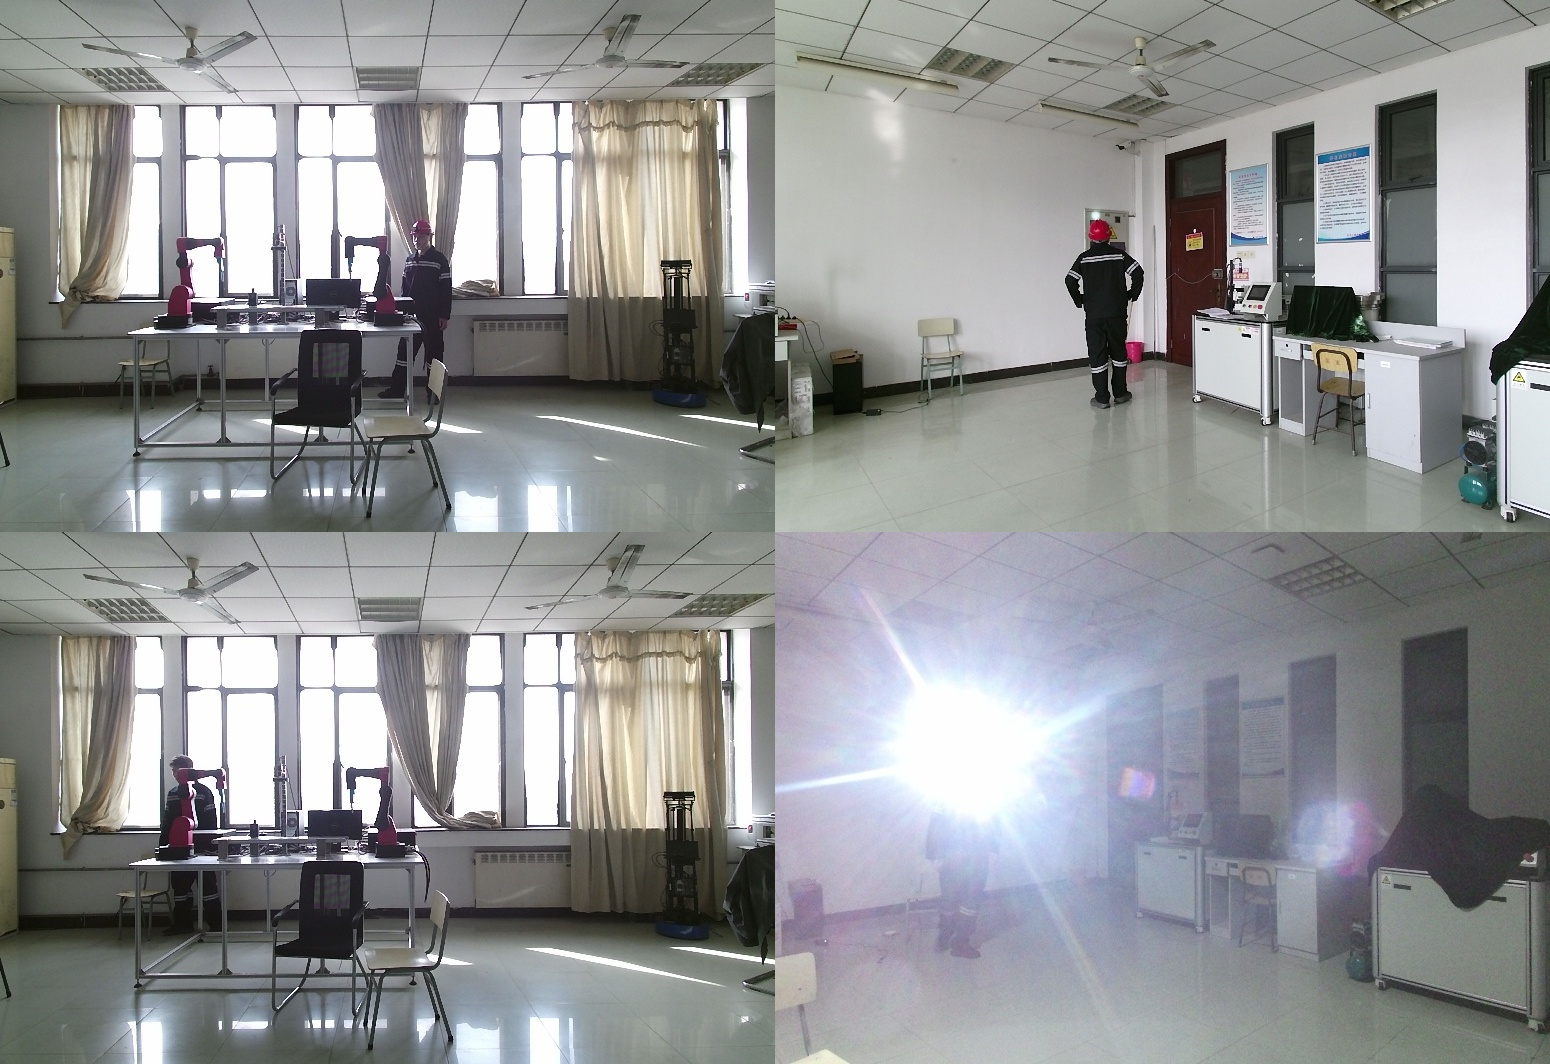person: (933, 750, 1024, 974), (1065, 221, 1149, 420), (157, 755, 226, 943), (396, 222, 444, 409)
